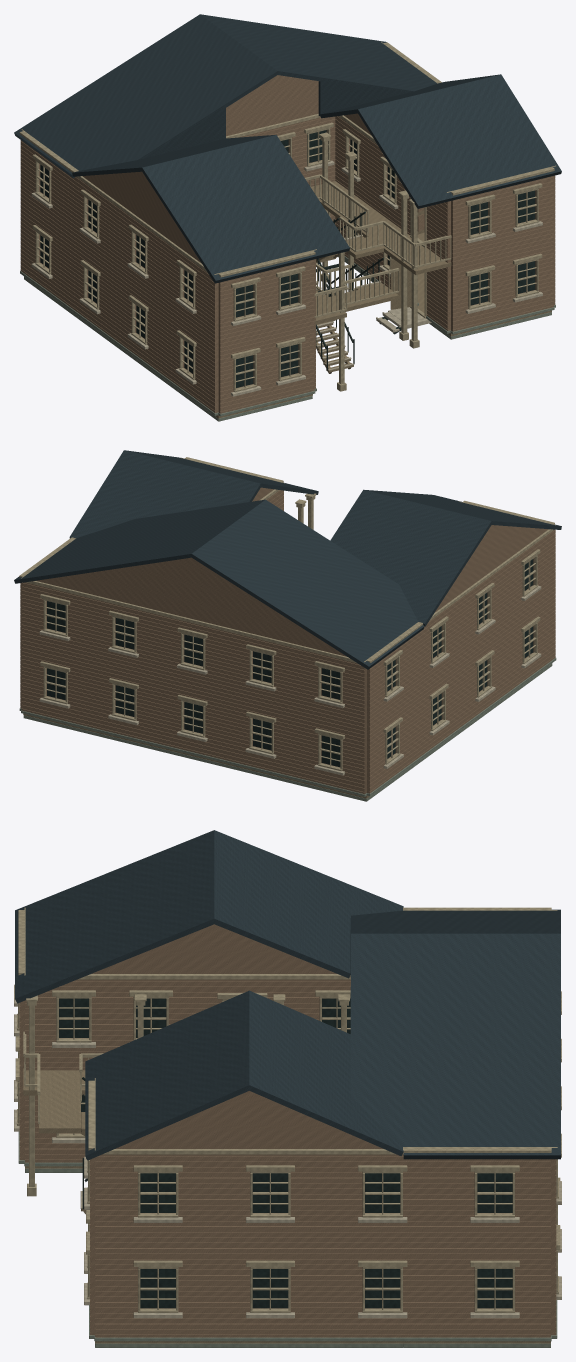
The picture shows the model from 3 angles, top to bottom: view 1: azimuth 30°, elevation 25°; view 2: azimuth 150°, elevation 25°; view 3: azimuth 270°, elevation 25°; orthographic projection. The views are drawn at different scales.
Parts seen in each view (by area): view 1: A010-16_11_Roof_Three_Inward_Gables, A010-16_02_Clapboard, A010-16_04_Architectural_Trim, A010-16_01_Wall_Shell, A010-16_03_Window_Door_Frames, A010-16_06_Glazing, A010-16_07_Floors, A010-16_09_Railings, A010-16_10_Porch_Supports, A010-16_11_Roof_Step_Flashings, A010-16_00_Foundation, A010-16_08_Stairs (+1 smaller); view 2: A010-16_02_Clapboard, A010-16_11_Roof_Three_Inward_Gables, A010-16_01_Wall_Shell, A010-16_04_Architectural_Trim, A010-16_03_Window_Door_Frames, A010-16_06_Glazing, A010-16_00_Foundation, A010-16_07_Floors; view 3: A010-16_11_Roof_Three_Inward_Gables, A010-16_02_Clapboard, A010-16_01_Wall_Shell, A010-16_04_Architectural_Trim, A010-16_06_Glazing, A010-16_03_Window_Door_Frames, A010-16_07_Floors, A010-16_00_Foundation, A010-16_10_Porch_Supports, A010-16_09_Railings.
Part boxes in pixels (bbox=[...]): A010-16_11_Roof_Three_Inward_Gables: bbox=[14, 14, 561, 283]; A010-16_02_Clapboard: bbox=[20, 116, 555, 413]; A010-16_04_Architectural_Trim: bbox=[19, 42, 555, 416]; A010-16_01_Wall_Shell: bbox=[39, 75, 554, 413]; A010-16_03_Window_Door_Frames: bbox=[35, 128, 538, 392]; A010-16_06_Glazing: bbox=[40, 130, 535, 387]; A010-16_07_Floors: bbox=[215, 181, 551, 418]; A010-16_09_Railings: bbox=[305, 174, 451, 370]; A010-16_10_Porch_Supports: bbox=[319, 132, 419, 391]; A010-16_11_Roof_Step_Flashings: bbox=[142, 79, 409, 158]; A010-16_00_Foundation: bbox=[24, 256, 551, 421]; A010-16_08_Stairs: bbox=[316, 234, 401, 372]; A010-16_02_Clapboard: bbox=[20, 490, 555, 794]; A010-16_11_Roof_Three_Inward_Gables: bbox=[14, 450, 561, 669]; A010-16_01_Wall_Shell: bbox=[21, 487, 548, 793]; A010-16_04_Architectural_Trim: bbox=[19, 457, 556, 796]; A010-16_03_Window_Door_Frames: bbox=[43, 555, 537, 771]; A010-16_06_Glazing: bbox=[47, 559, 533, 767]; A010-16_00_Foundation: bbox=[23, 663, 552, 801]; A010-16_07_Floors: bbox=[23, 713, 369, 798]; A010-16_11_Roof_Three_Inward_Gables: bbox=[15, 830, 560, 1160]; A010-16_02_Clapboard: bbox=[19, 979, 556, 1337]; A010-16_01_Wall_Shell: bbox=[20, 924, 555, 1336]; A010-16_04_Architectural_Trim: bbox=[14, 907, 561, 1341]; A010-16_06_Glazing: bbox=[59, 998, 512, 1308]; A010-16_03_Window_Door_Frames: bbox=[17, 996, 558, 1312]; A010-16_07_Floors: bbox=[23, 1068, 550, 1343]; A010-16_00_Foundation: bbox=[25, 1168, 550, 1347]; A010-16_10_Porch_Supports: bbox=[26, 994, 349, 1196]; A010-16_09_Railings: bbox=[23, 1031, 103, 1209].
Size of the model in its own units: 16.62 by 9.36 by 15.62.
9 materials, 9 textured.
